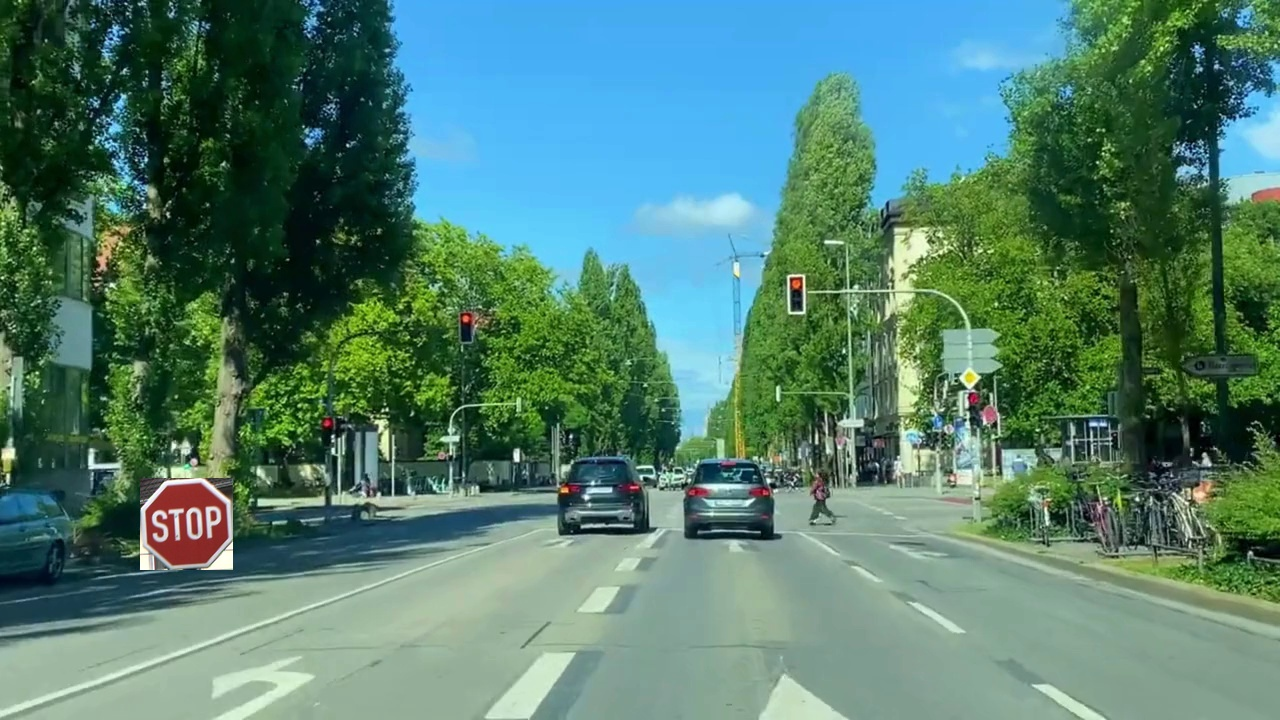Stop: (140, 478, 233, 570)
